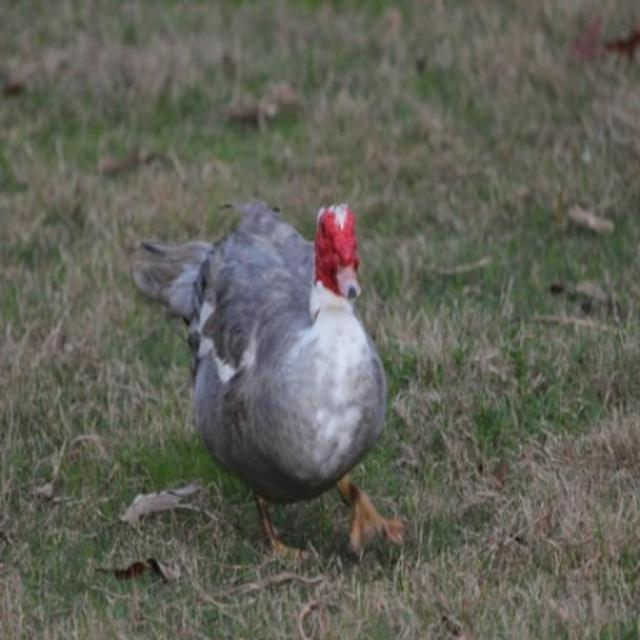Chicken: (137, 198, 403, 568)
